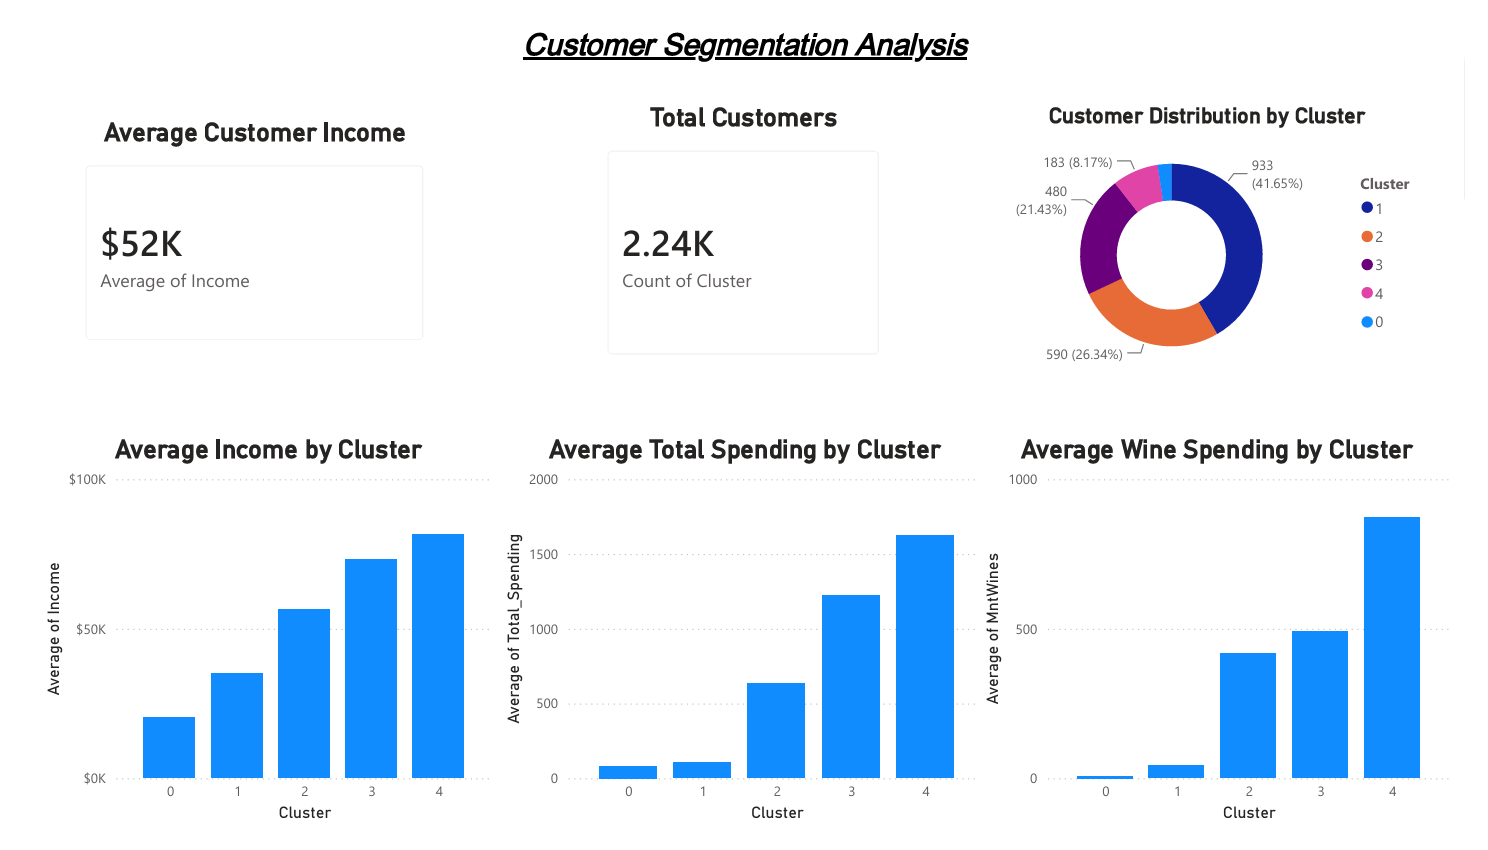

The dashboard page shown, as its layout file describes it:
{"tool":"powerbi","page":{"name":"Page 1","canvas":[1280,720],"ordinal":0},"visuals":[{"type":"cardVisual","title":"Average Customer Income","fields":{"Data":["Avg(customer_segments.Income)"]},"box":[37,87.8,334.8,215.4],"z":0},{"type":"cardVisual","title":"Total Customers","fields":{"Data":["CountNonNull(customer_segments.Cluster)"]},"box":[501.4,74.6,275.1,242.1],"z":1000},{"type":"donutChart","title":"Customer Distribution by Cluster","fields":{"Category":["customer_segments.Cluster"],"Y":["CountNonNull(customer_segments.Cluster)"]},"box":[846.2,74.6,408.4,249.5],"z":2000},{"type":"clusteredColumnChart","title":"Average Total Spending by Cluster","fields":{"Category":["customer_segments.Cluster"],"Y":["Avg(customer_segments.Total_Spending)"]},"box":[421.3,370.5,437.7,349.9],"z":3000},{"type":"clusteredColumnChart","title":"Average Income by Cluster","fields":{"Category":["customer_segments.Cluster"],"Y":["Avg(customer_segments.Income)"]},"box":[12.3,370.5,408.9,349.9],"z":4000},{"type":"clusteredColumnChart","title":"Average Wine Spending by Cluster","fields":{"Category":["customer_segments.Cluster"],"Y":["Avg(customer_segments.MntWines)"]},"box":[846.7,370.5,425.4,349.9],"z":4001},{"type":"textbox","box":[0,0,1280.3,64.8],"z":4002}]}

Visuals, with their boxes in screenshot pixels (x1, y1, x2, y2), scaled from the page's 1280x720 canvas onto the 1488x850 screenshot:
"Average Customer Income" cardVisual: (x1=43, y1=104, x2=432, y2=358)
"Total Customers" cardVisual: (x1=583, y1=88, x2=903, y2=374)
"Customer Distribution by Cluster" donutChart: (x1=984, y1=88, x2=1458, y2=383)
"Average Total Spending by Cluster" clusteredColumnChart: (x1=490, y1=437, x2=999, y2=849)
"Average Income by Cluster" clusteredColumnChart: (x1=14, y1=437, x2=490, y2=849)
"Average Wine Spending by Cluster" clusteredColumnChart: (x1=984, y1=437, x2=1479, y2=849)
textbox: (x1=0, y1=0, x2=1487, y2=76)
